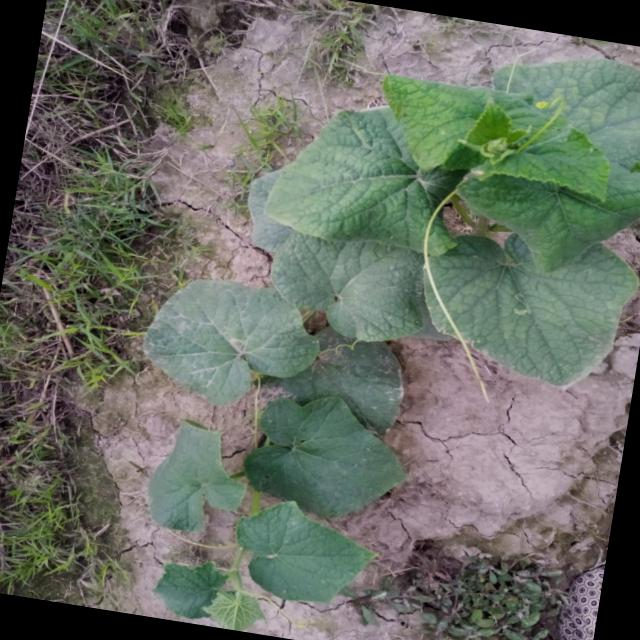cucumber_healthy: (447, 31, 640, 291), (406, 212, 640, 413), (256, 88, 476, 271), (132, 262, 330, 424), (234, 390, 421, 530), (220, 484, 387, 622), (134, 411, 255, 548)
